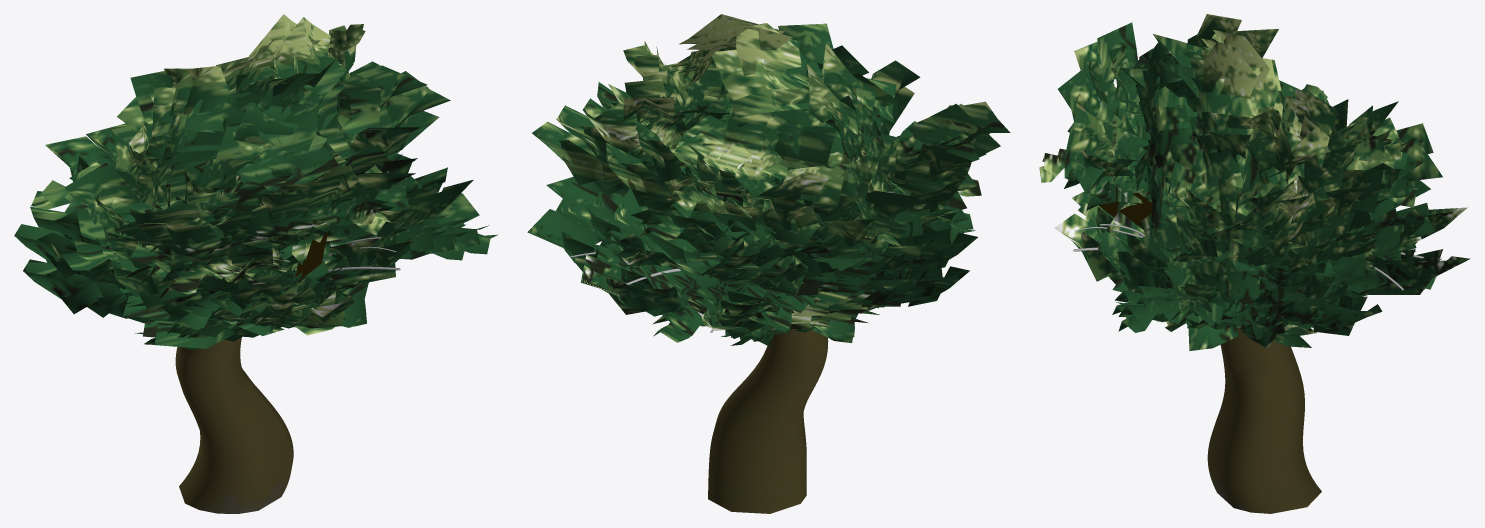
The model's file is Tree.fbx.
3 renders of one model, left to right at view 1: azimuth 30°, elevation 25°; view 2: azimuth 150°, elevation 25°; view 3: azimuth 270°, elevation 25°, orthographic. The views are drawn at different scales.
Visible parts, largest first — view 1: pasted__pPlane119; view 2: pasted__pPlane119; view 3: pasted__pPlane119.
Part boxes in pixels (bbox=[...]): pasted__pPlane119: bbox=[14, 14, 497, 513]; pasted__pPlane119: bbox=[527, 14, 1010, 513]; pasted__pPlane119: bbox=[1039, 14, 1470, 513].
Size of the model in its own units: 54.09 by 55.63 by 45.78.
Materials: 4 (2 with a texture image).
